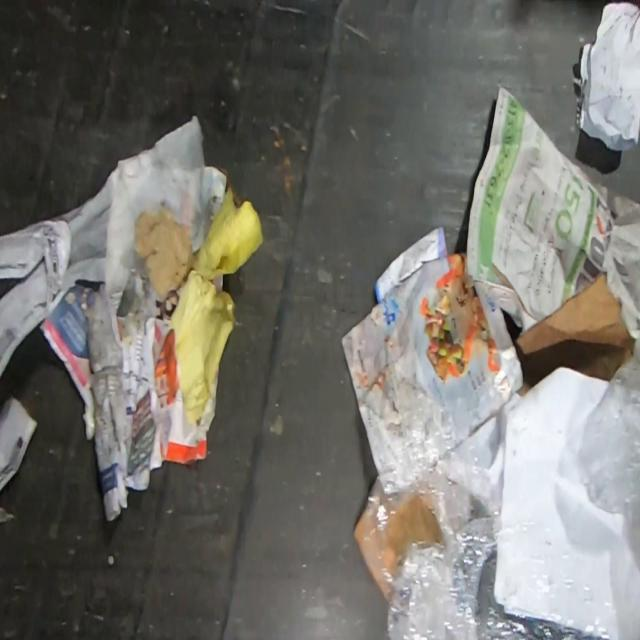cardboard: (513, 275, 634, 398), (352, 511, 366, 552)
soft_plastic: (360, 378, 606, 638), (579, 335, 640, 532)
